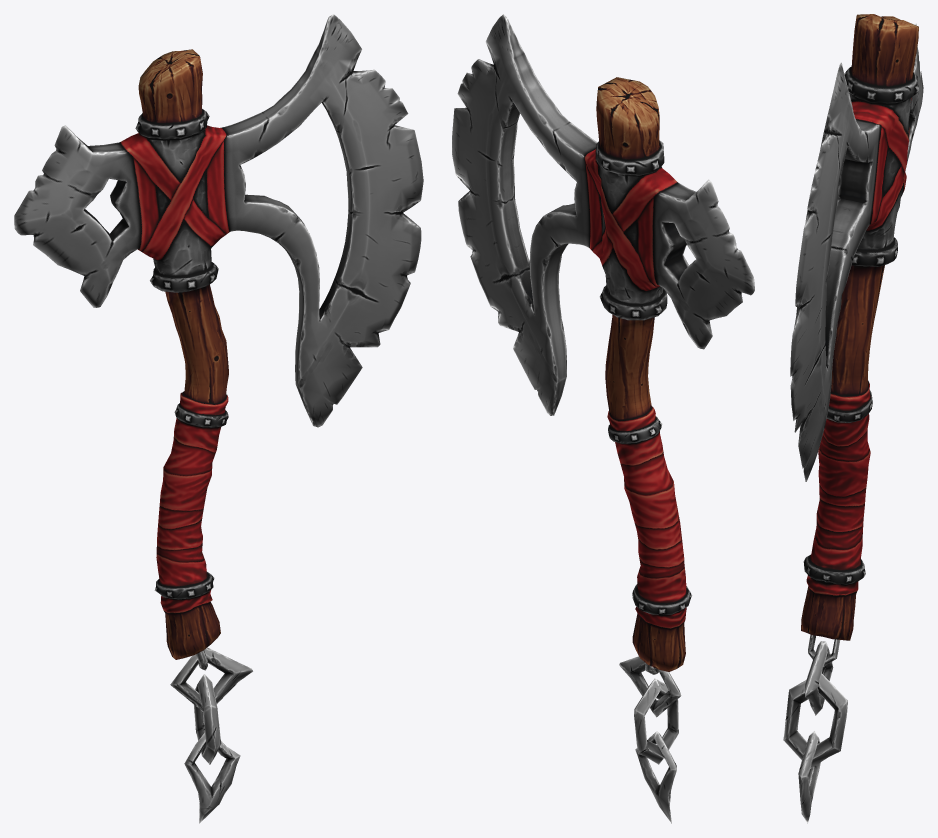
Rendered from axe2.glb.
3 views of the same model, side by side, from view 1: azimuth 30°, elevation 25°; view 2: azimuth 150°, elevation 25°; view 3: azimuth 270°, elevation 25° (orthographic). The views are drawn at different scales.
Visible parts, largest first — view 1: default_03 - Default_0, Group40592_07 - Default_0, Group41924_07 - Default_0, Group57669_07 - Default_0; view 2: default_03 - Default_0, Group57669_07 - Default_0, Group40592_07 - Default_0, Group41924_07 - Default_0; view 3: default_03 - Default_0, Group57669_07 - Default_0, Group40592_07 - Default_0, Group41924_07 - Default_0, Group8855_07 - Default_0.
Part boxes in pixels (bbox=[...]): default_03 - Default_0: bbox=[14, 14, 423, 659]; Group40592_07 - Default_0: bbox=[184, 732, 240, 823]; Group41924_07 - Default_0: bbox=[170, 647, 252, 711]; Group57669_07 - Default_0: bbox=[193, 674, 221, 764]; default_03 - Default_0: bbox=[452, 14, 754, 671]; Group57669_07 - Default_0: bbox=[634, 678, 678, 764]; Group40592_07 - Default_0: bbox=[635, 731, 676, 823]; Group41924_07 - Default_0: bbox=[619, 656, 681, 717]; default_03 - Default_0: bbox=[790, 14, 923, 640]; Group57669_07 - Default_0: bbox=[783, 673, 847, 768]; Group40592_07 - Default_0: bbox=[798, 731, 820, 823]; Group41924_07 - Default_0: bbox=[805, 641, 833, 715]; Group8855_07 - Default_0: bbox=[808, 634, 840, 666].
Size of the model in its own units: 1.21 by 2.5 by 0.3776.
Materials: 2 (2 with a texture image).
